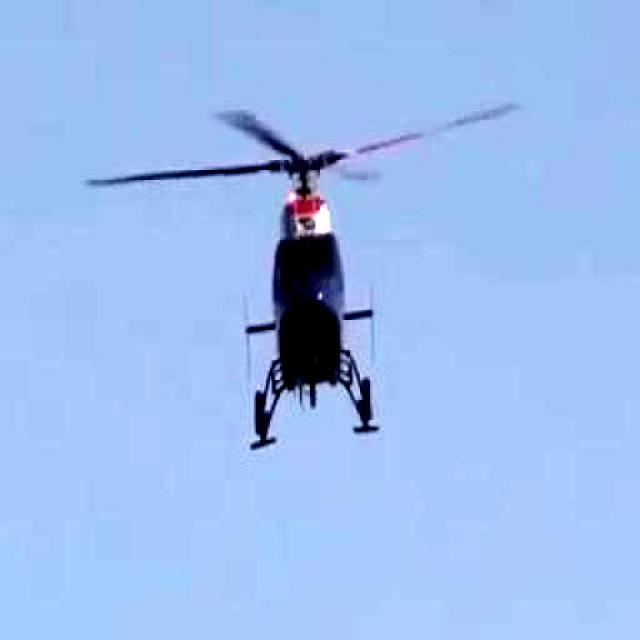drone: (124, 68, 492, 471)
